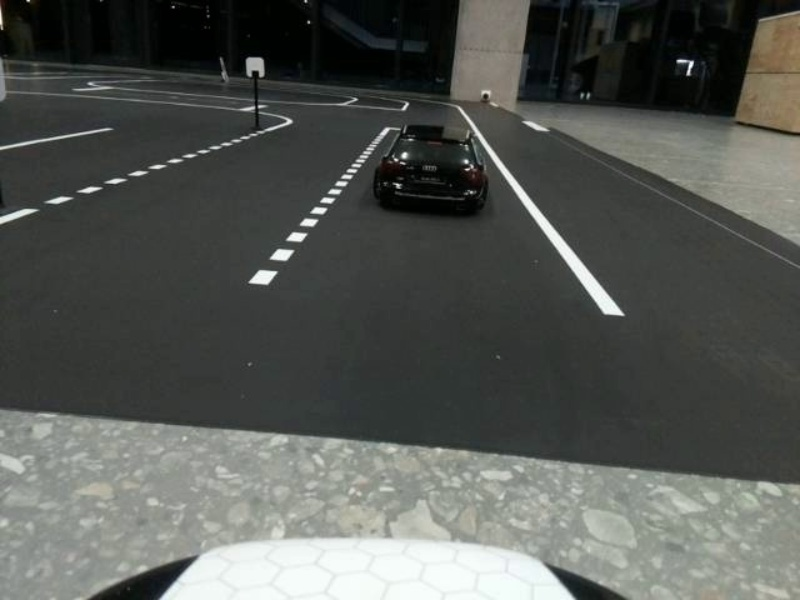car: (373, 110, 488, 216)
